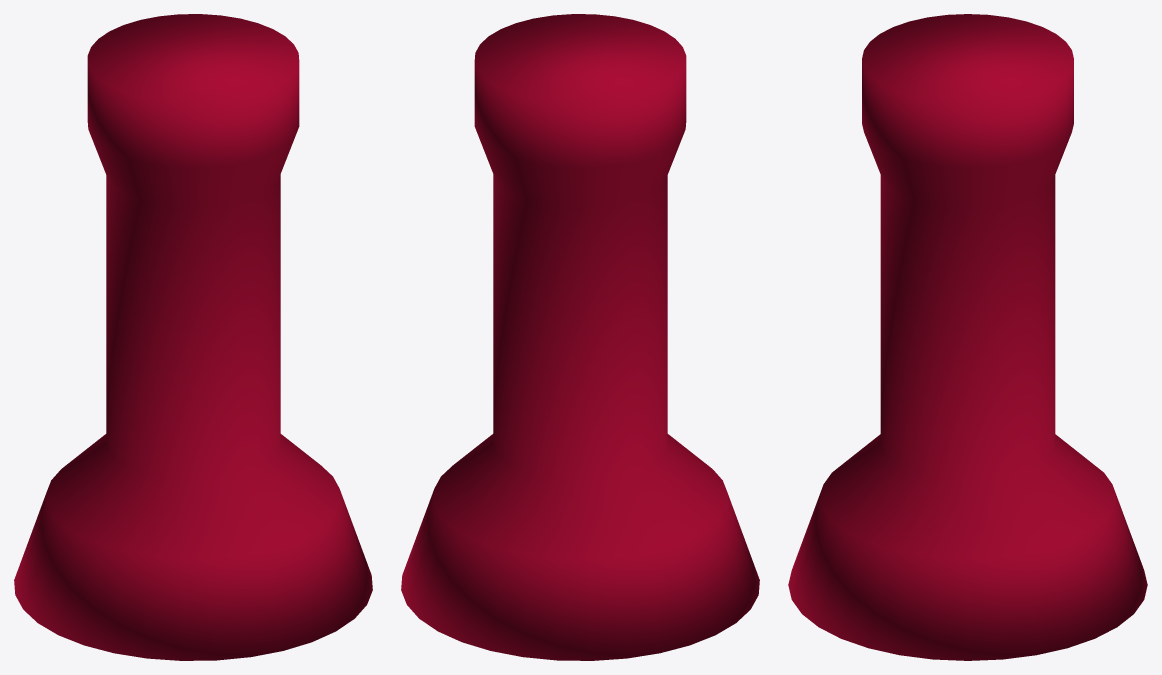
File: redpeg.fbx
3 views of the same model, side by side, from view 1: azimuth 30°, elevation 25°; view 2: azimuth 150°, elevation 25°; view 3: azimuth 270°, elevation 25° (orthographic).
Visible parts, largest first — view 1: pegr; view 2: pegr; view 3: pegr.
Part boxes in pixels (x1,y1,x2,y2): pegr: [14, 14, 372, 660]; pegr: [401, 14, 759, 660]; pegr: [788, 14, 1147, 660].
Size of the model in its own units: 2 by 3.23 by 2.
